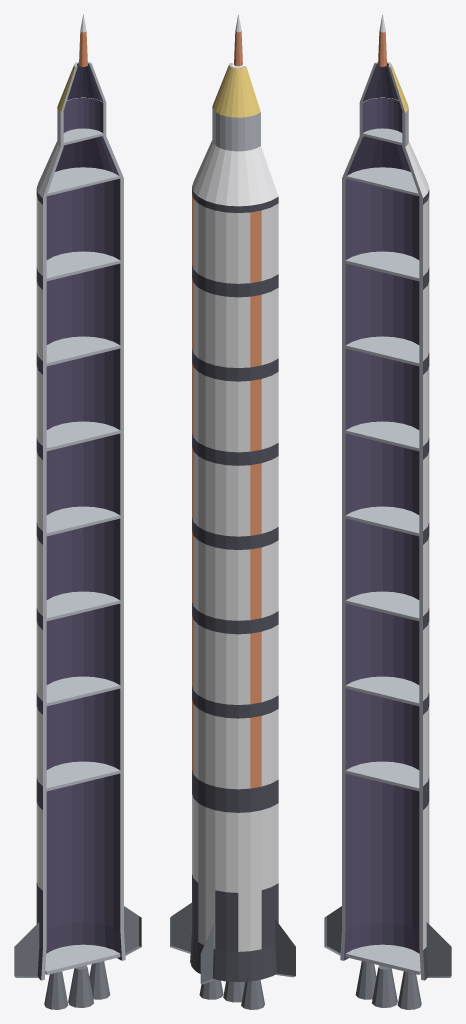
Rendered from saturn_v_cutaway.glb.
3 renders of one model, left to right at view 1: azimuth 30°, elevation 25°; view 2: azimuth 150°, elevation 25°; view 3: azimuth 330°, elevation 25°, orthographic.
Visible parts, largest first — view 1: MainBooster, InternalStage_2, InternalStage_3, InternalStage_1, InternalStage_4, InternalStage_7, InternalStage_5, InternalStage_6, Cabin; view 2: MainBooster, Cabin, InternalStage_1, InternalStage_2, InternalStage_6, InternalStage_5, InternalStage_4, InternalStage_3, InternalStage_7; view 3: MainBooster, InternalStage_2, InternalStage_3, InternalStage_1, InternalStage_4, InternalStage_7, InternalStage_5, InternalStage_6, Cabin.
Part boxes in pixels (x1=…): MainBooster: x1=14, y1=773, x2=141, y2=1009; InternalStage_2: x1=36, y1=603, x2=123, y2=707; InternalStage_3: x1=36, y1=518, x2=123, y2=622; InternalStage_1: x1=36, y1=688, x2=123, y2=792; InternalStage_4: x1=36, y1=433, x2=123, y2=537; InternalStage_7: x1=36, y1=178, x2=123, y2=282; InternalStage_5: x1=36, y1=348, x2=123, y2=452; InternalStage_6: x1=36, y1=263, x2=123, y2=367; Cabin: x1=36, y1=14, x2=123, y2=197; MainBooster: x1=170, y1=777, x2=295, y2=1009; Cabin: x1=192, y1=14, x2=278, y2=206; InternalStage_1: x1=192, y1=693, x2=278, y2=795; InternalStage_2: x1=192, y1=609, x2=278, y2=711; InternalStage_6: x1=192, y1=272, x2=278, y2=374; InternalStage_5: x1=192, y1=356, x2=278, y2=458; InternalStage_4: x1=192, y1=440, x2=278, y2=543; InternalStage_3: x1=192, y1=524, x2=278, y2=627; InternalStage_7: x1=192, y1=187, x2=278, y2=290; MainBooster: x1=324, y1=773, x2=451, y2=1009; InternalStage_2: x1=342, y1=603, x2=429, y2=707; InternalStage_3: x1=342, y1=518, x2=429, y2=622; InternalStage_1: x1=342, y1=688, x2=429, y2=792; InternalStage_4: x1=342, y1=433, x2=429, y2=537; InternalStage_7: x1=342, y1=178, x2=429, y2=282; InternalStage_5: x1=342, y1=348, x2=429, y2=452; InternalStage_6: x1=342, y1=263, x2=429, y2=367; Cabin: x1=342, y1=14, x2=429, y2=197.
Bounding box in the file's own units: 1.55 × 11.65 × 0.8631.
